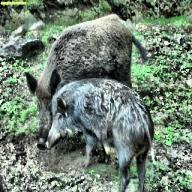boar: (24, 13, 148, 152), (45, 69, 156, 191)
